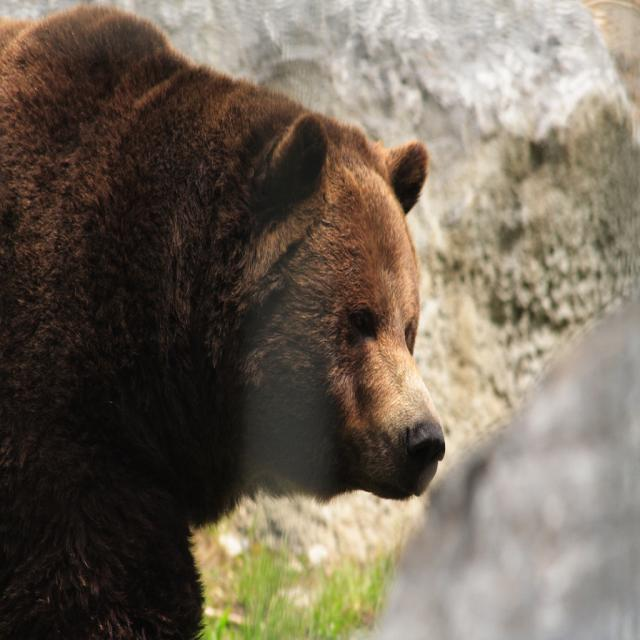Cheetahs: (0, 0, 445, 639)
